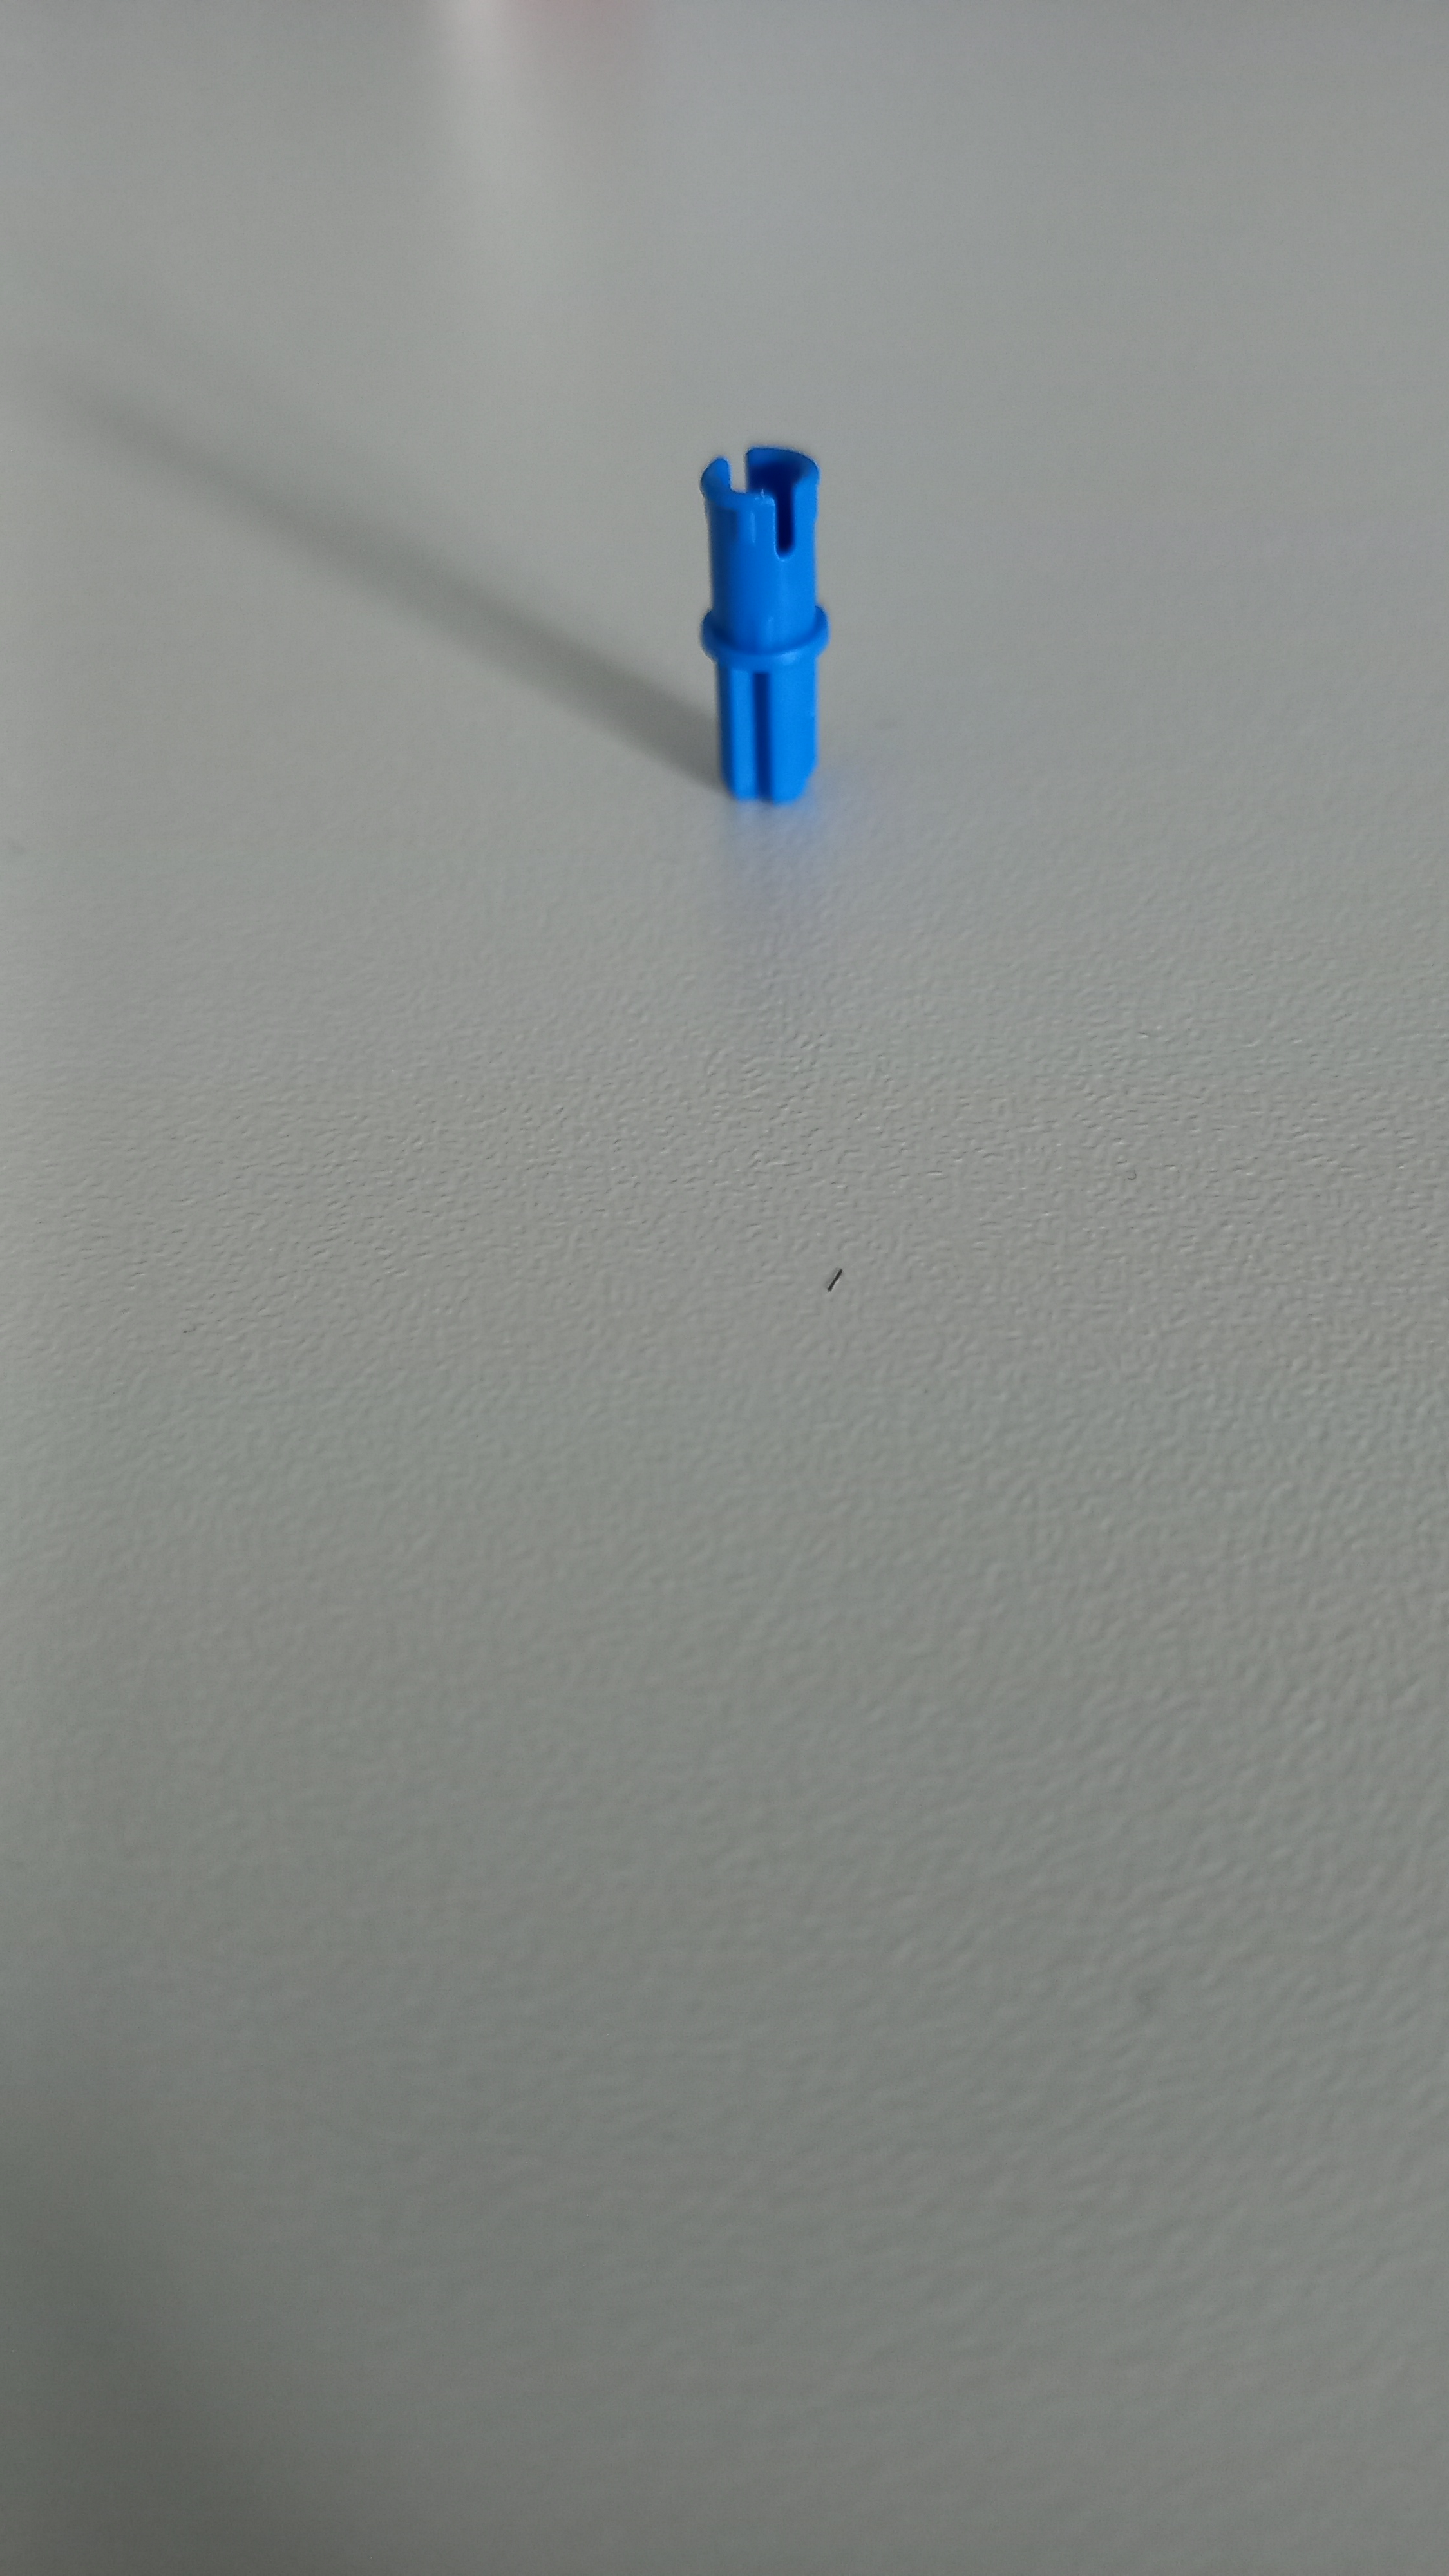Blau: (663, 421, 862, 826)
